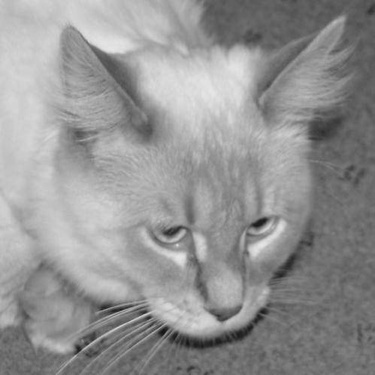cat: (5, 2, 351, 359)
